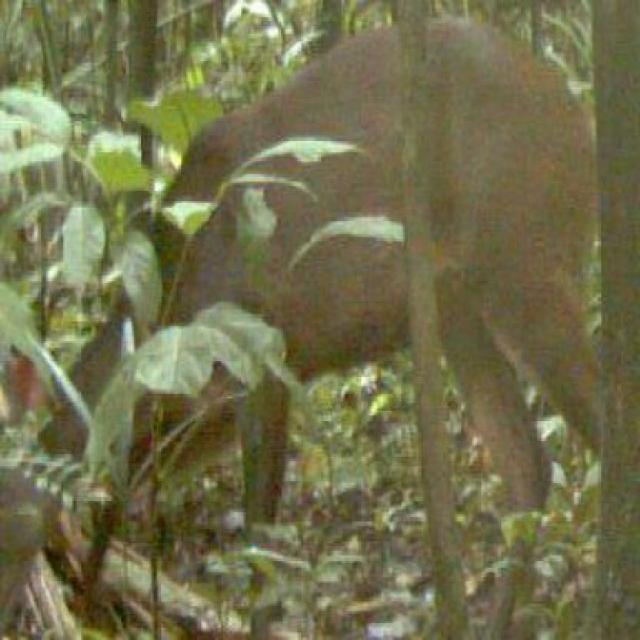Deer: (6, 9, 620, 594)
